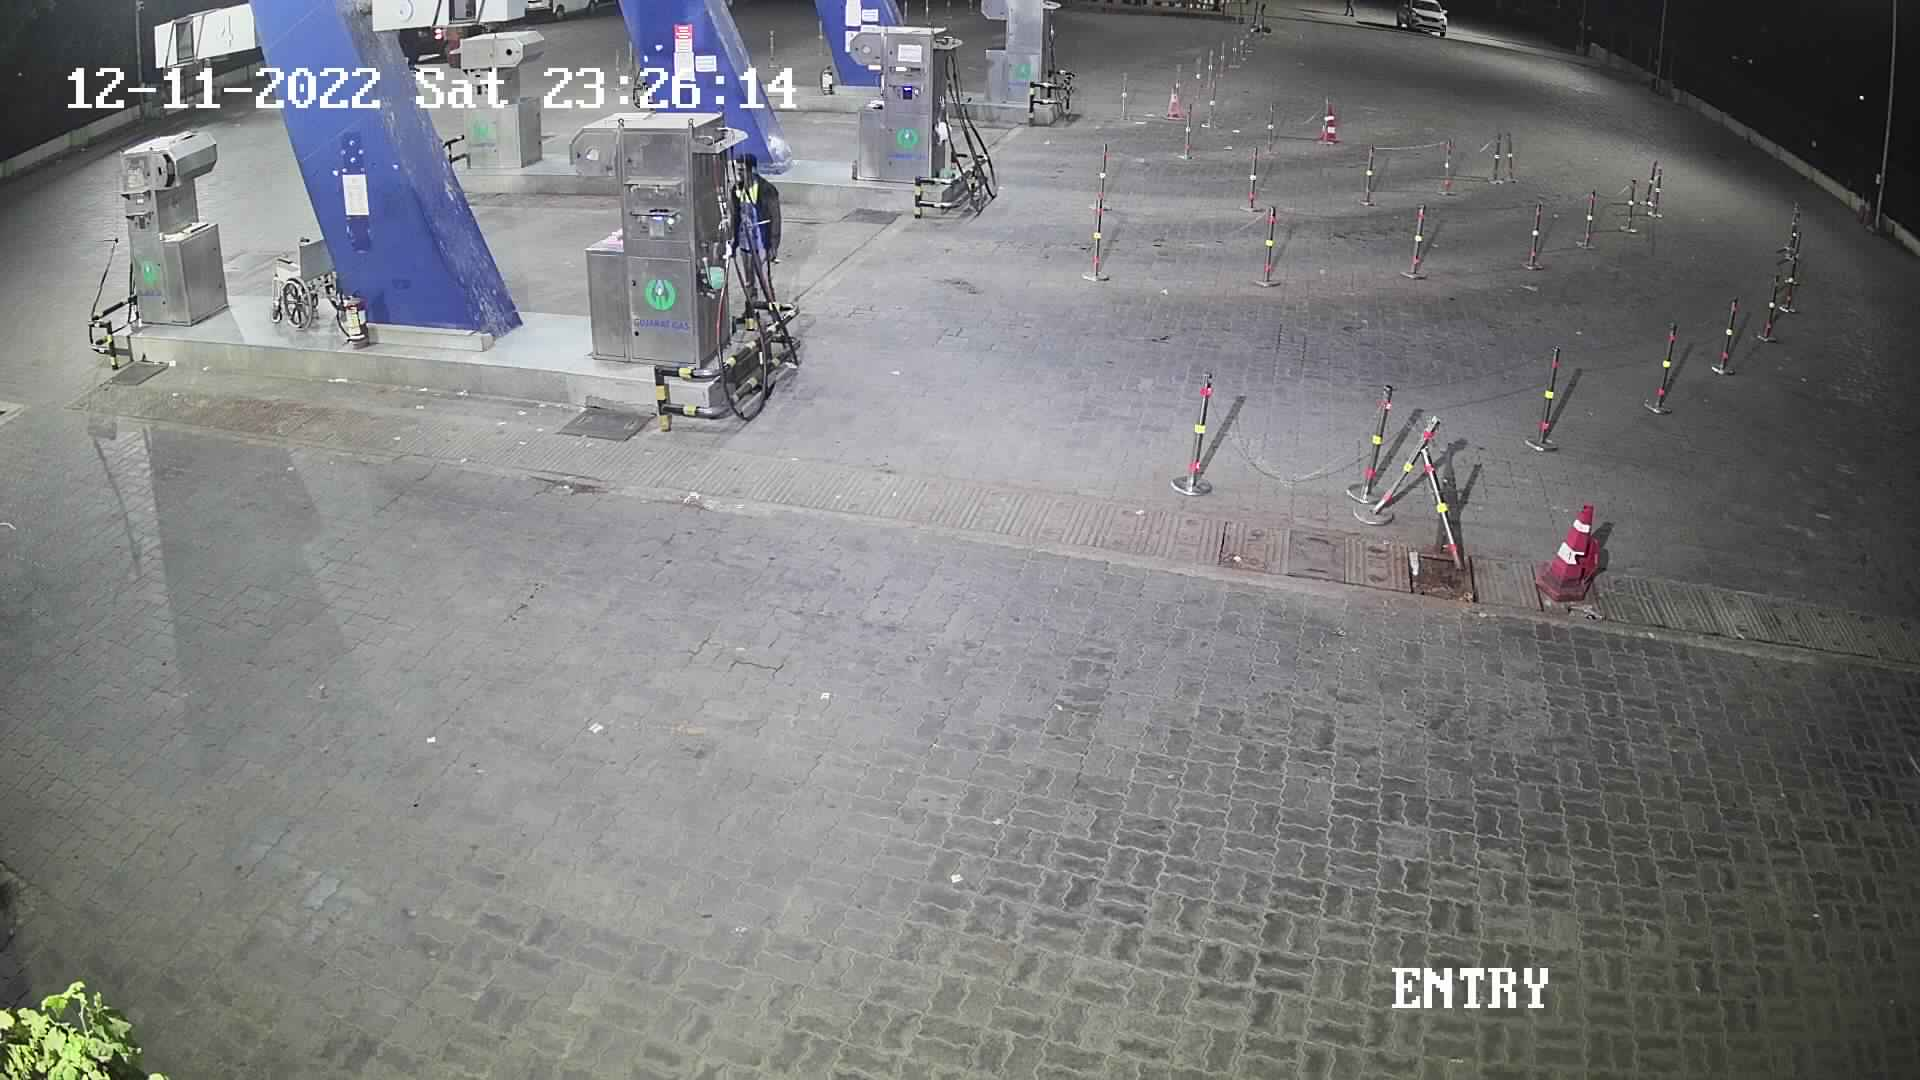Car: (1390, 0, 1466, 41)
Others: (720, 146, 785, 328)
